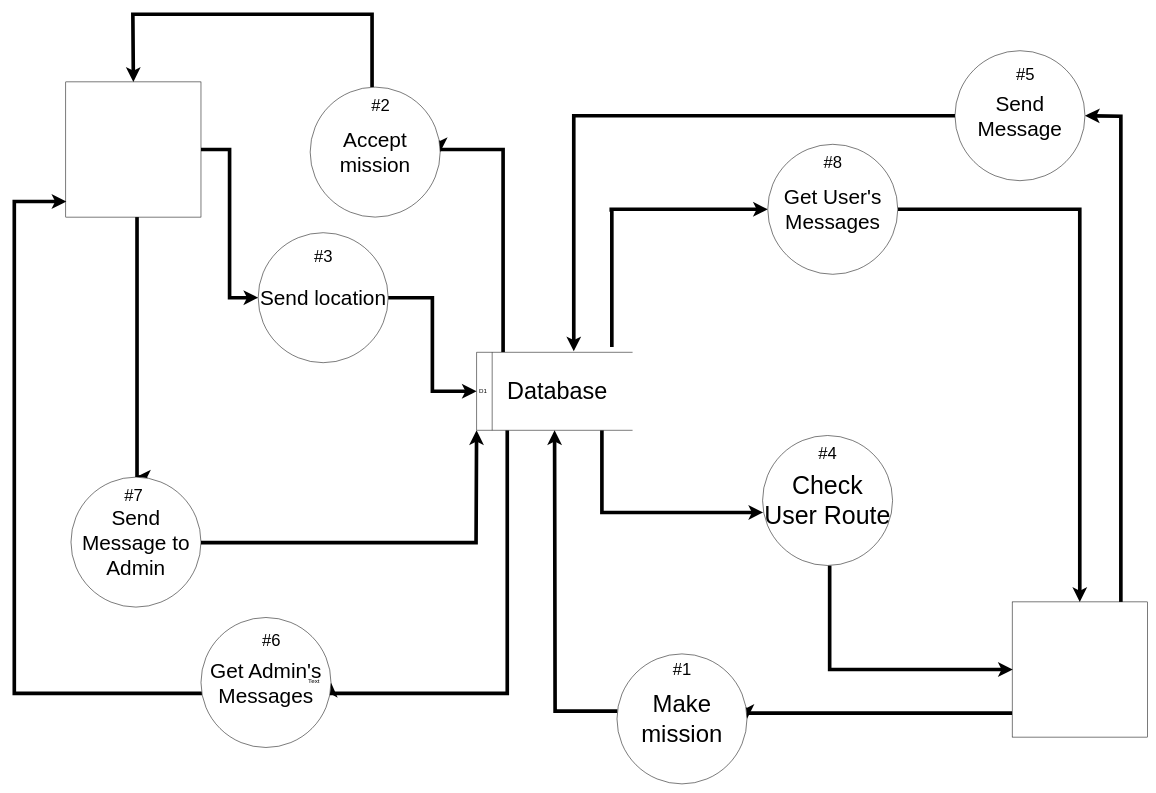
Image size: 1156x793. Some labels were removed from this diagram. Here are the shapes that lost their labels. From the top down, the centre of each, then its label:
(133,149): User
(1079,669): Admin
